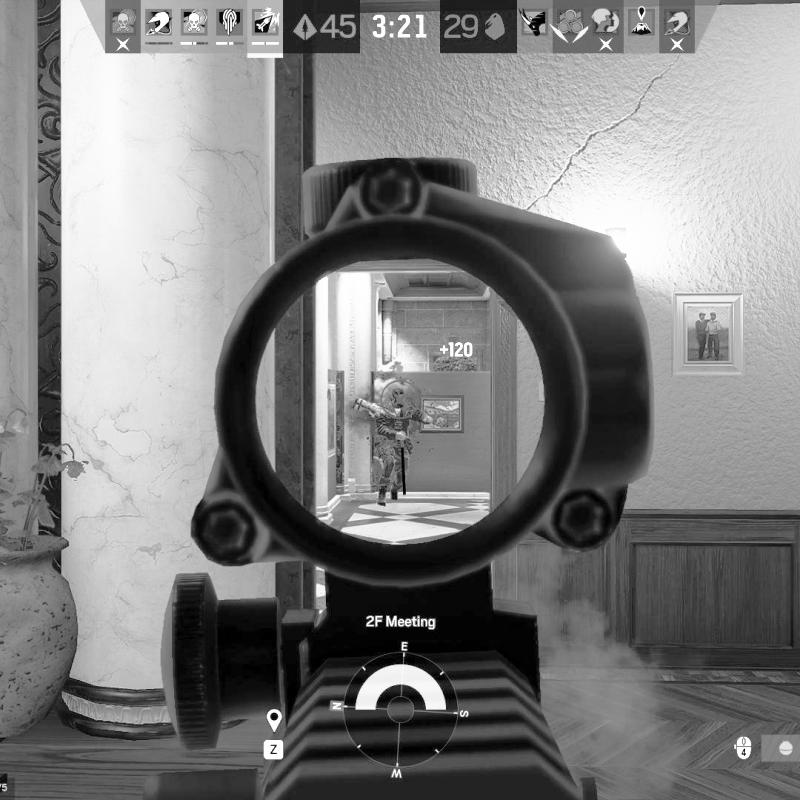Character: (370, 385, 435, 506)
Head: (390, 386, 407, 407)
